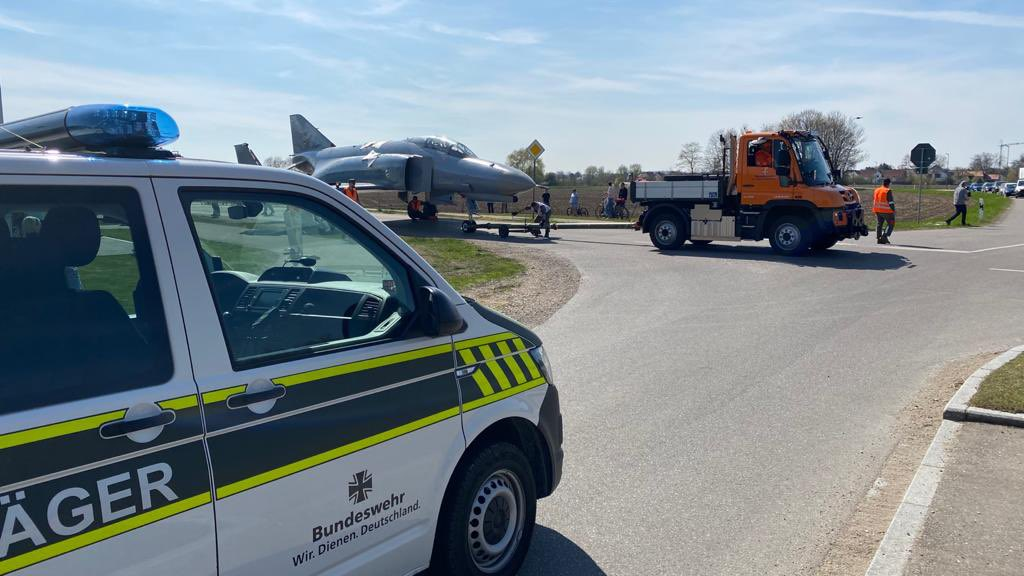F4: (233, 113, 551, 237)
